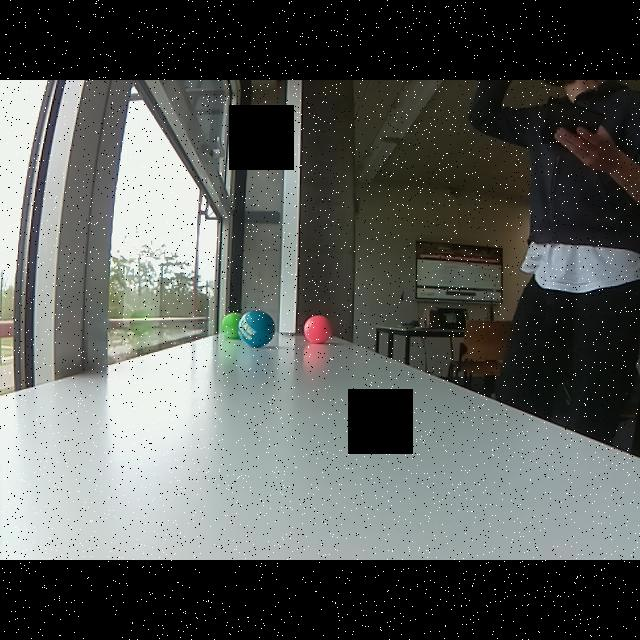ball: (299, 312, 334, 348), (218, 309, 240, 341)
